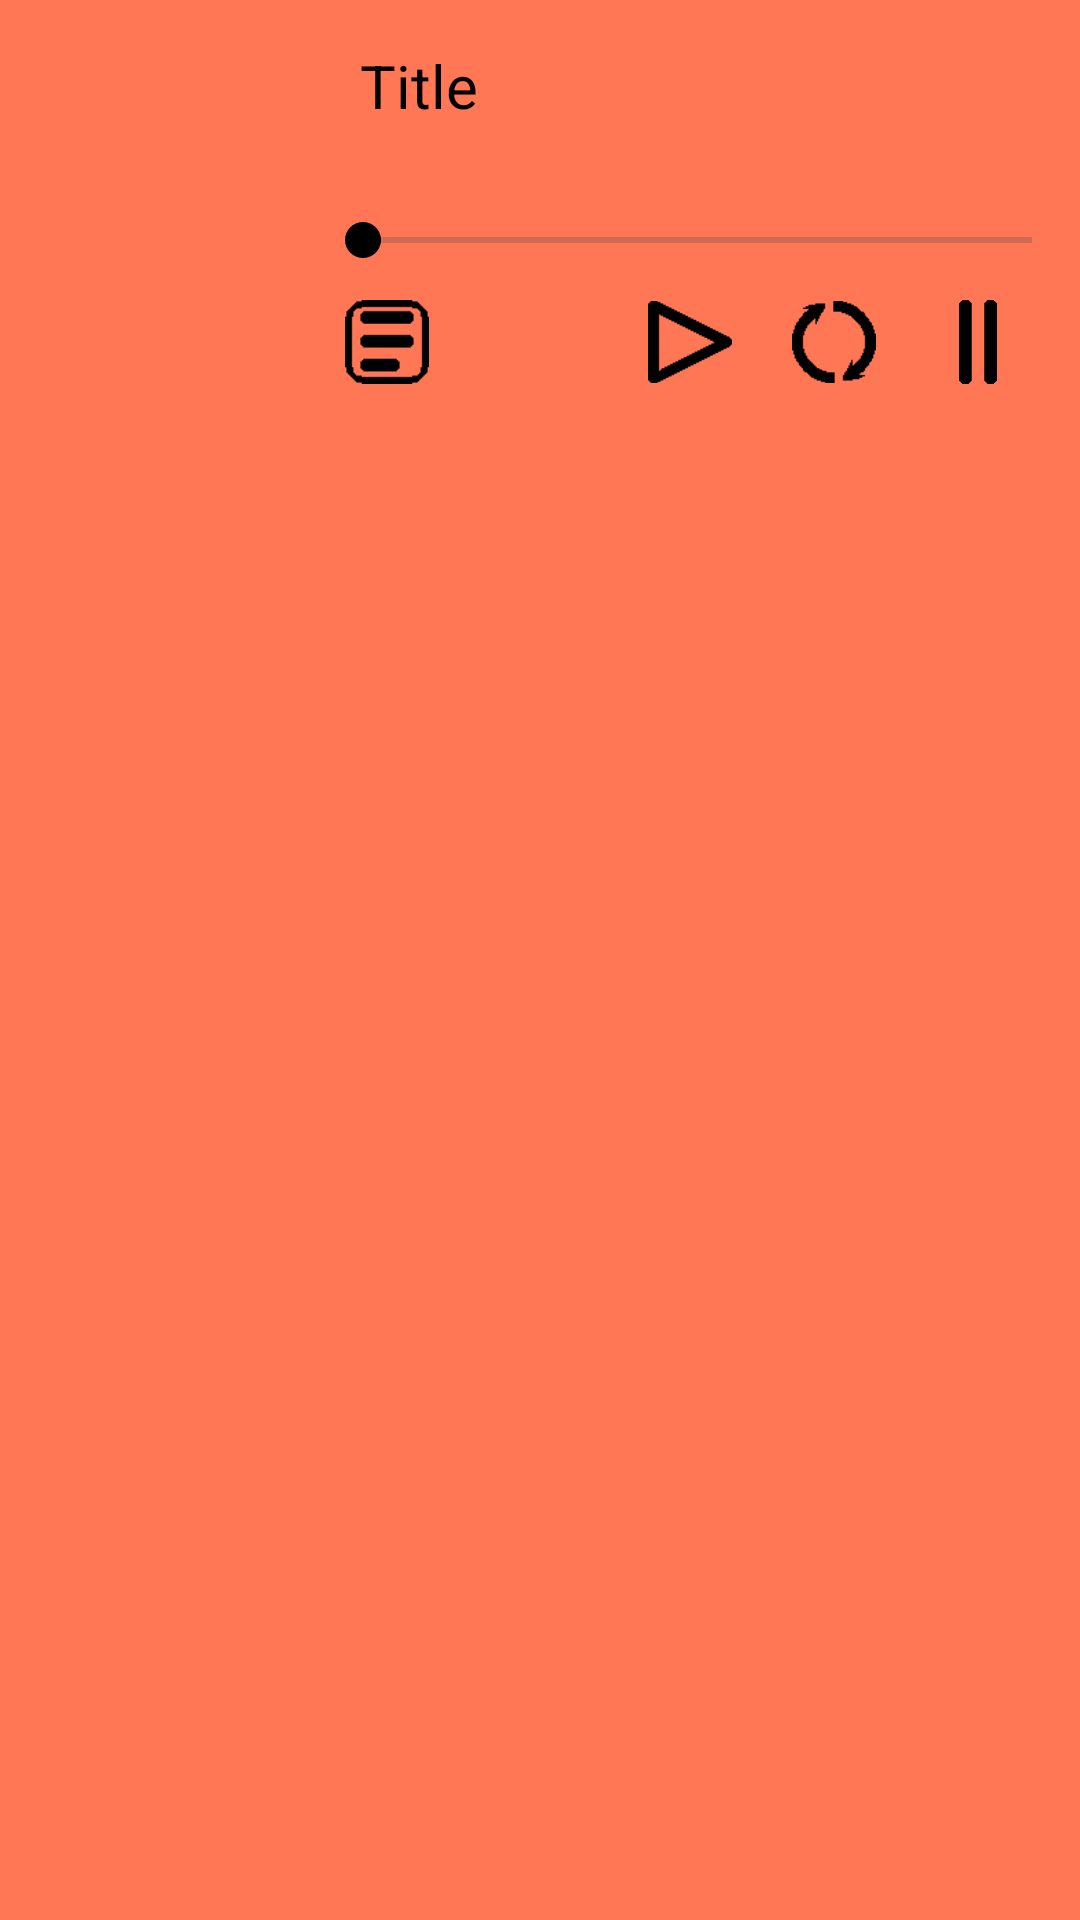

Named icons in this screenshot (1080 x 1920) and their bounding boxes, [x1=x1, y1=y1, x2=x2, y2=y2]:
play: [x1=648, y1=301, x2=732, y2=383]
restart: [x1=792, y1=301, x2=876, y2=383]
text: [x1=345, y1=300, x2=429, y2=384]
